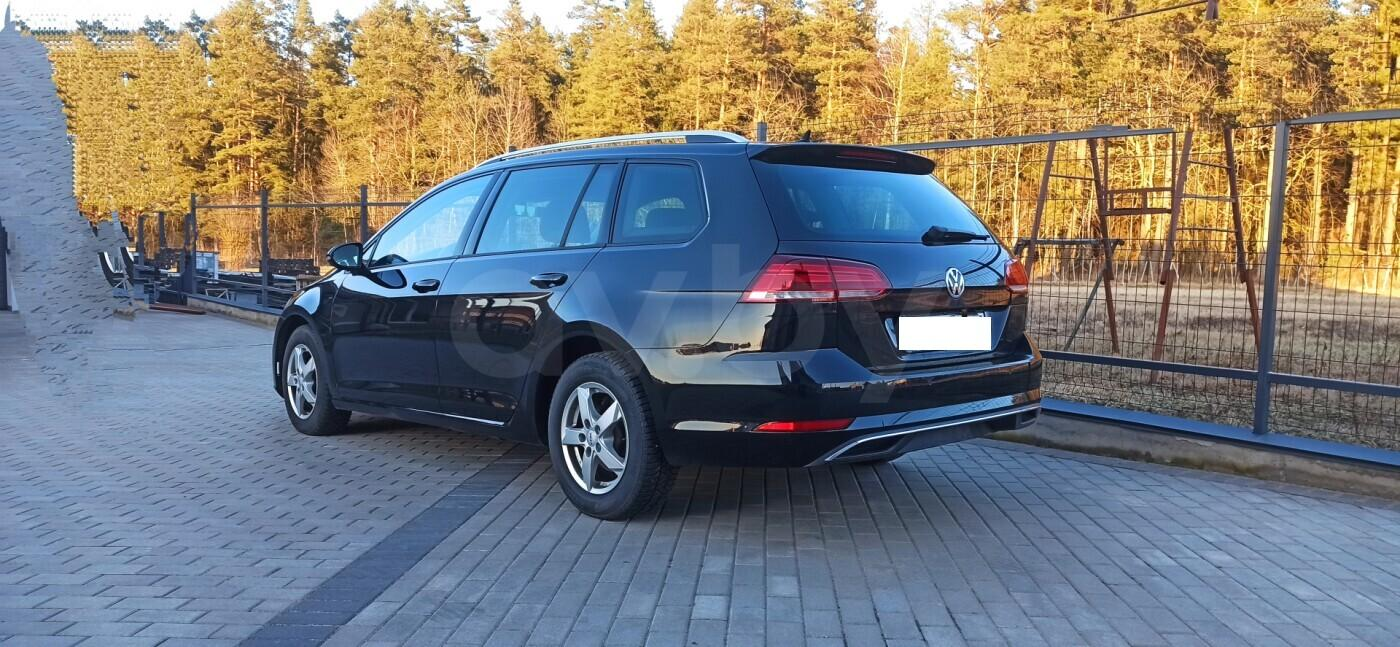Golf_2017-2021: (269, 133, 1047, 511)
